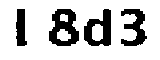3: (120, 8, 147, 52)
8: (44, 6, 81, 48)
d: (82, 6, 115, 48)
l: (10, 7, 35, 49)
